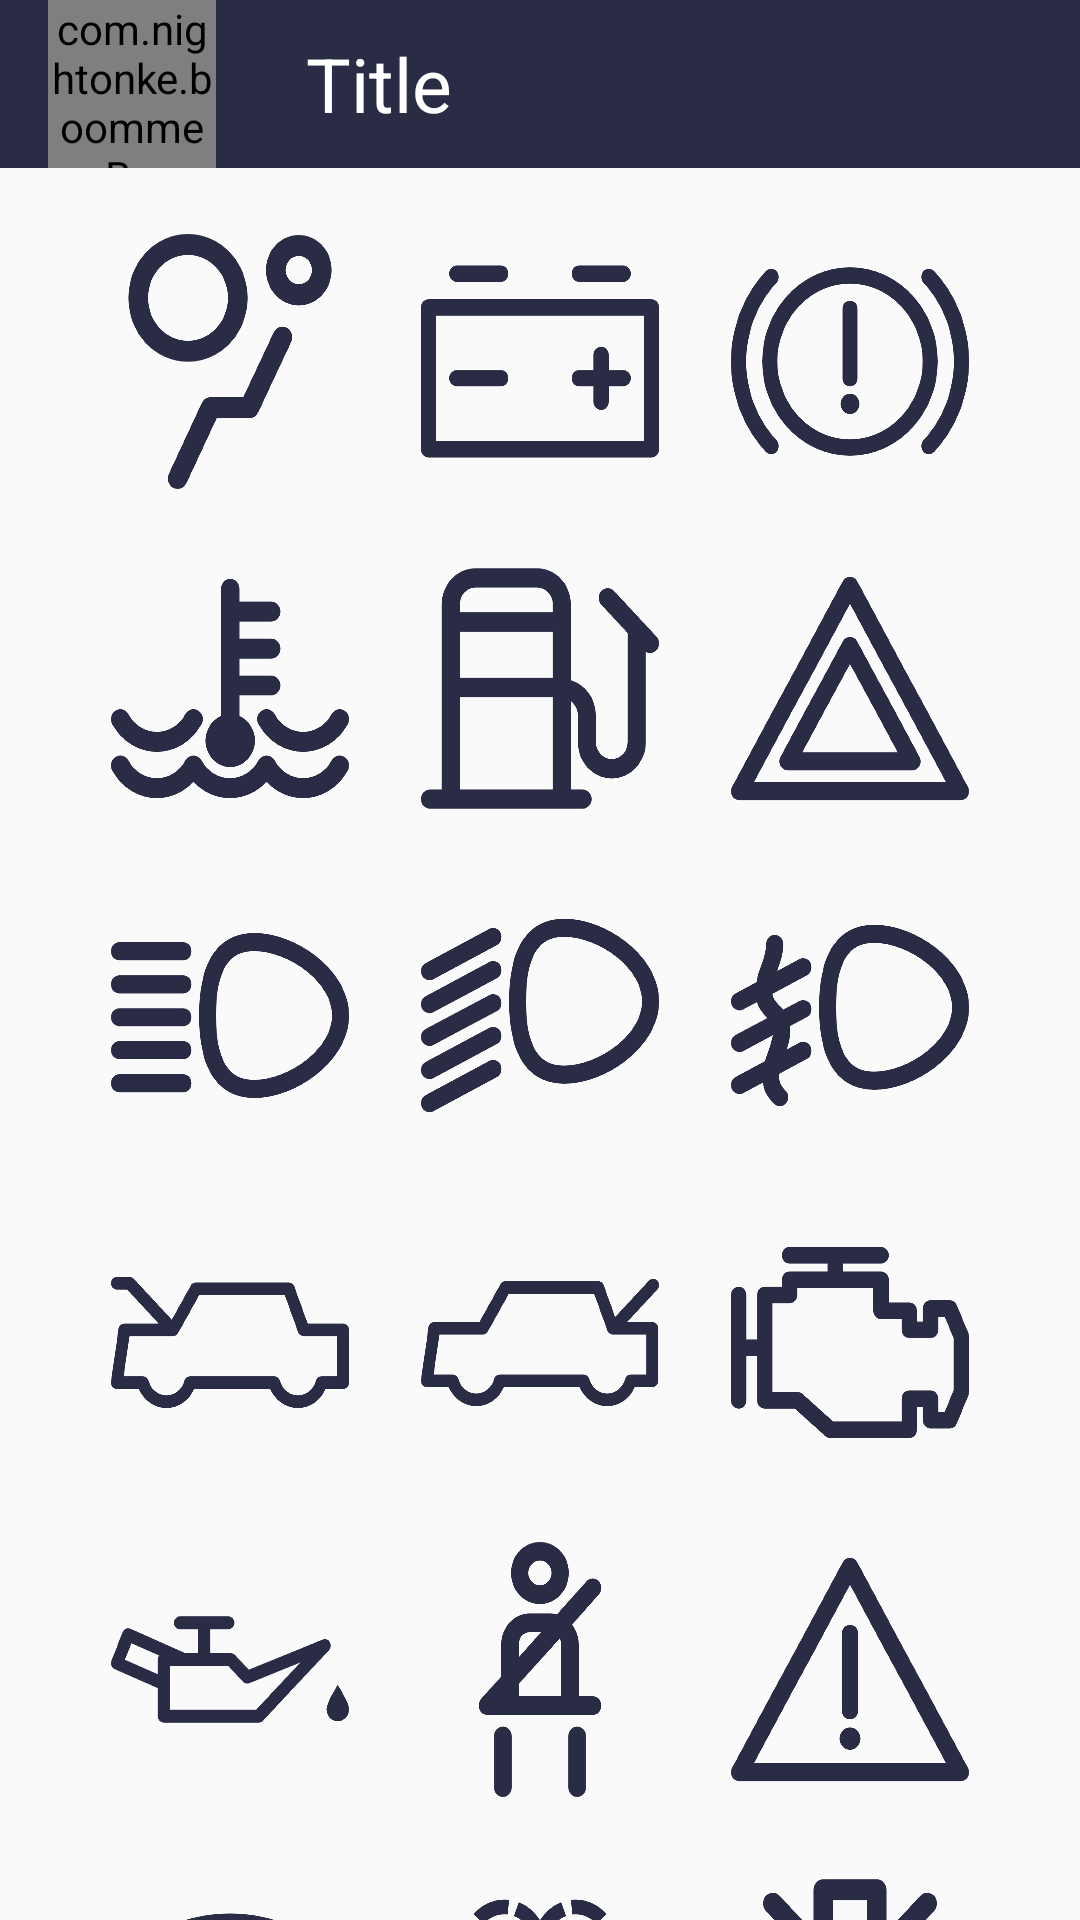

Icon bounding boxes for this 1080×1920 phone screenshot, format [x1=x1, y1=y1, x2=x2, y2=y2]:
battery: [x1=421, y1=265, x2=659, y2=458]
brake: [x1=731, y1=267, x2=969, y2=456]
checkengine: [x1=731, y1=1247, x2=969, y2=1438]
coolant: [x1=111, y1=579, x2=349, y2=798]
foglight: [x1=731, y1=925, x2=969, y2=1106]
fuel: [x1=421, y1=568, x2=659, y2=809]
hazard: [x1=731, y1=577, x2=969, y2=800]
highbeam: [x1=111, y1=933, x2=349, y2=1098]
hood: [x1=111, y1=1277, x2=349, y2=1408]
lowbeam: [x1=421, y1=919, x2=659, y2=1112]
oil: [x1=111, y1=1616, x2=349, y2=1723]
seatbelt: [x1=479, y1=1542, x2=602, y2=1797]
trunk: [x1=421, y1=1279, x2=659, y2=1406]
warning: [x1=731, y1=1558, x2=969, y2=1781]
